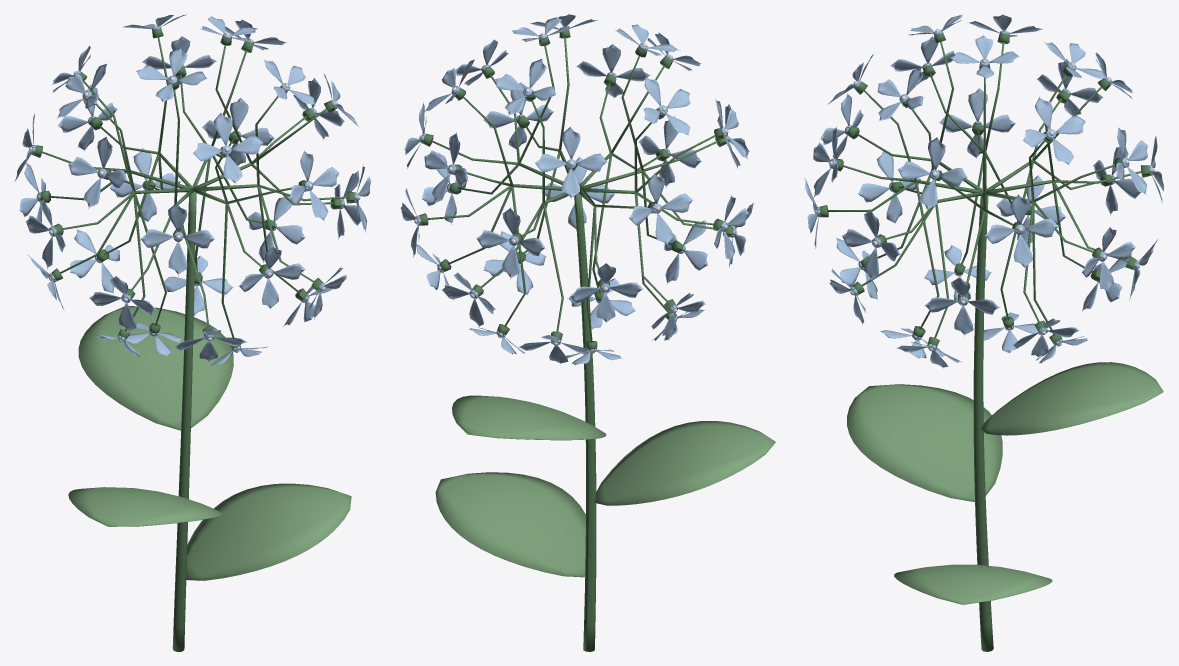
File: hydrangea-fine-v2.glb
3 views of the same model, side by side, from view 1: azimuth 30°, elevation 25°; view 2: azimuth 150°, elevation 25°; view 3: azimuth 270°, elevation 25° (orthographic).
Visible parts, largest first — view 1: hydrangea-fine-v2-leaf, hydrangea-fine-v2-petal, hydrangea-fine-v2-stem; view 2: hydrangea-fine-v2-leaf, hydrangea-fine-v2-petal, hydrangea-fine-v2-stem; view 3: hydrangea-fine-v2-petal, hydrangea-fine-v2-leaf, hydrangea-fine-v2-stem.
Part boxes in pixels (<box>): hydrangea-fine-v2-leaf: <box>68,306,351,580</box>; hydrangea-fine-v2-petal: <box>14,14,371,366</box>; hydrangea-fine-v2-stem: <box>32,27,356,651</box>; hydrangea-fine-v2-leaf: <box>435,395,775,577</box>; hydrangea-fine-v2-petal: <box>400,14,753,365</box>; hydrangea-fine-v2-stem: <box>418,30,735,651</box>; hydrangea-fine-v2-petal: <box>804,14,1164,368</box>; hydrangea-fine-v2-leaf: <box>847,362,1163,604</box>; hydrangea-fine-v2-stem: <box>817,31,1151,651</box>.
Size of the model in its own units: 0.9892 by 1.91 by 0.9974.
